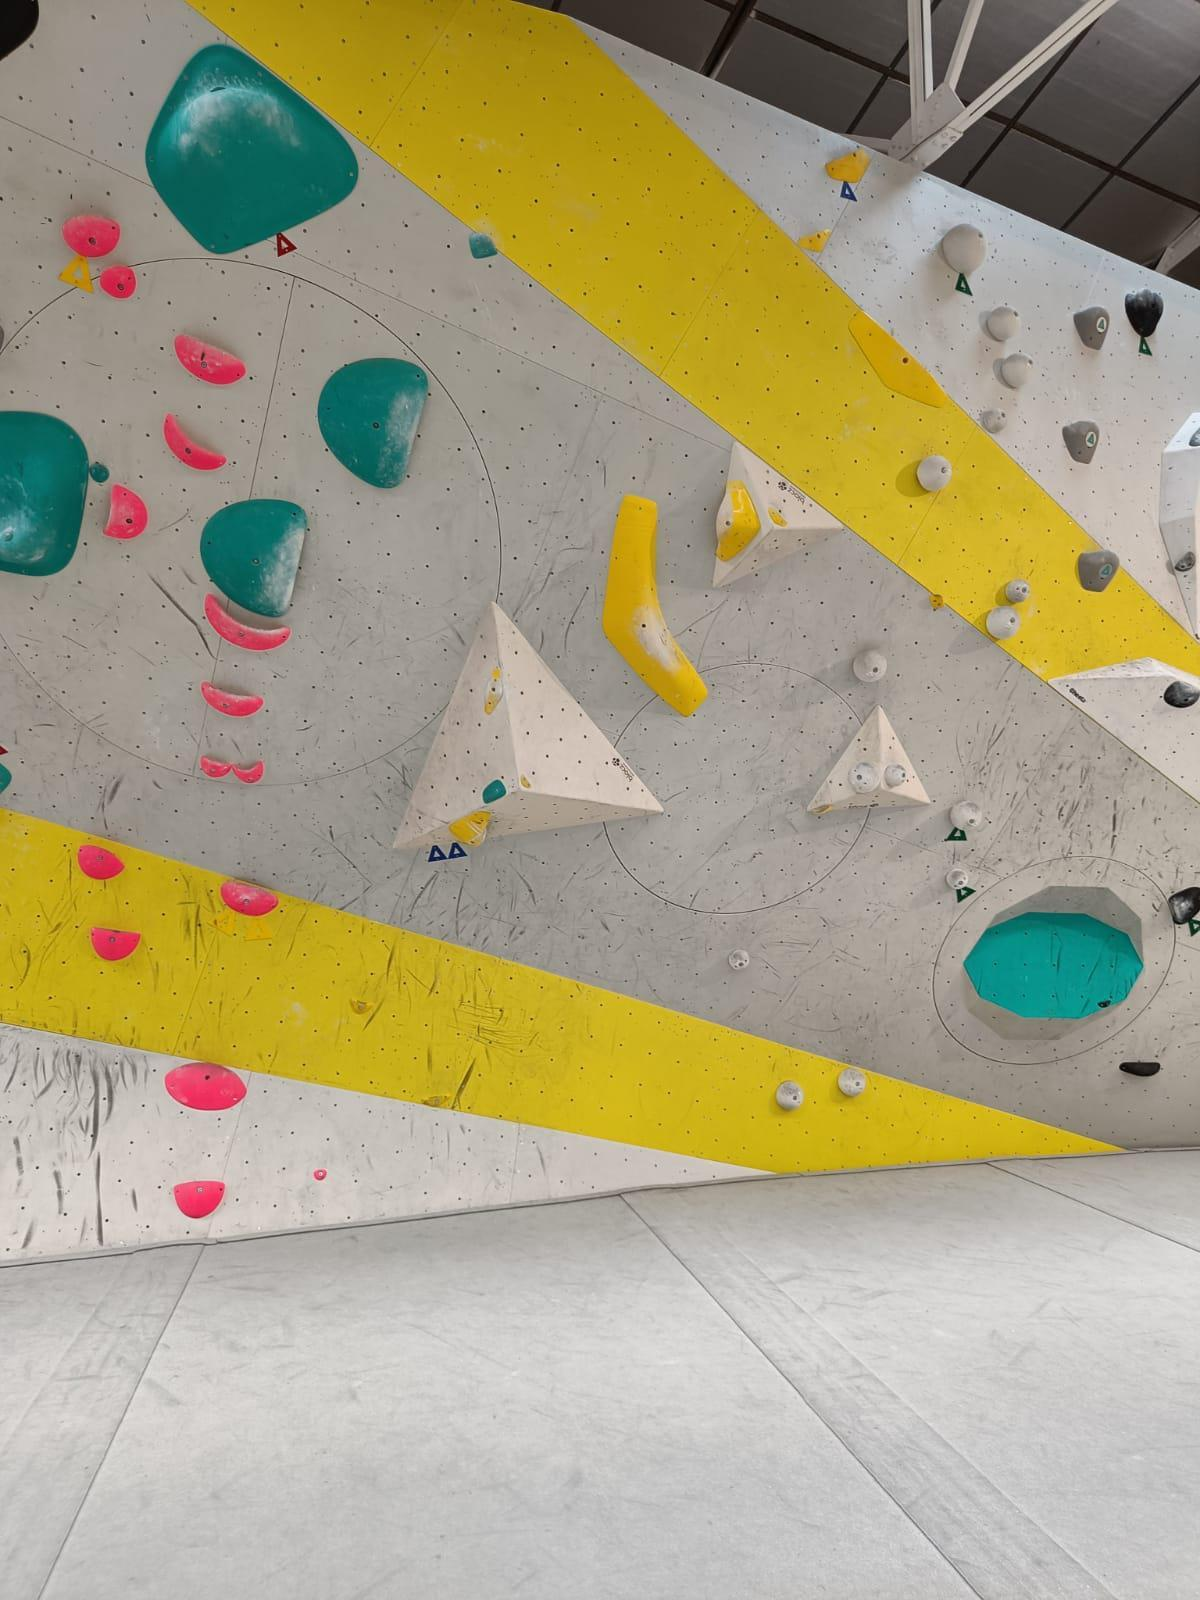hold: (963, 886, 1143, 1041), (601, 494, 708, 717), (962, 912, 1145, 1039), (0, 411, 89, 576), (318, 358, 429, 489), (199, 499, 308, 617), (848, 310, 950, 408), (204, 592, 291, 650), (165, 1062, 247, 1110), (715, 480, 761, 562), (174, 333, 247, 384), (163, 412, 227, 470), (102, 484, 147, 539), (62, 214, 120, 257), (0, 0, 39, 60), (200, 680, 265, 716), (943, 223, 987, 273), (1124, 287, 1165, 338), (173, 1180, 226, 1218), (221, 882, 279, 916), (1078, 549, 1121, 592), (91, 927, 141, 961), (447, 810, 492, 848), (78, 845, 126, 879), (824, 149, 872, 183), (1063, 420, 1099, 464), (1074, 306, 1111, 350), (916, 455, 952, 491), (852, 648, 887, 683), (100, 265, 136, 299), (1167, 887, 1200, 925), (988, 305, 1022, 340), (1002, 353, 1036, 387), (986, 606, 1021, 639), (848, 760, 881, 794), (949, 800, 983, 831), (1163, 680, 1200, 708), (484, 666, 503, 716), (775, 1080, 804, 1110), (797, 228, 832, 252), (837, 1068, 866, 1096), (232, 760, 263, 784), (200, 755, 233, 777), (469, 232, 497, 258), (482, 779, 507, 804), (983, 408, 1008, 432), (1119, 1062, 1161, 1076), (727, 947, 750, 971), (884, 763, 906, 787), (1006, 580, 1030, 602), (945, 868, 968, 891), (349, 997, 376, 1014), (768, 506, 789, 528), (0, 762, 13, 795), (88, 464, 110, 483), (1175, 552, 1196, 571), (929, 593, 945, 609), (1189, 426, 1200, 446), (313, 1168, 328, 1180), (519, 774, 532, 789), (0, 746, 9, 756)
volume: (393, 600, 664, 850), (144, 42, 358, 254), (1047, 656, 1200, 804), (712, 440, 846, 588), (807, 704, 930, 813), (1158, 412, 1200, 640)
